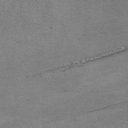finishing roll printing: (33, 46, 128, 76), (86, 102, 128, 114)
